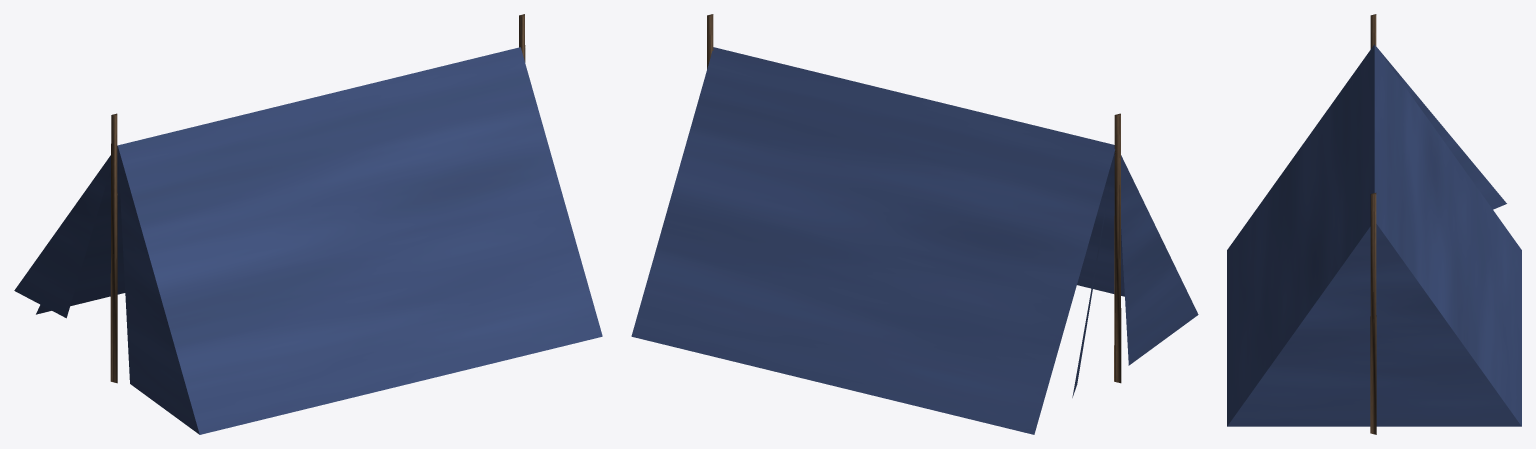
The model's file is Tent_Pilgrim_5_LOD1.gltf.
The picture shows the model from 3 angles, left to right: view 1: azimuth 30°, elevation 25°; view 2: azimuth 150°, elevation 25°; view 3: azimuth 270°, elevation 25°; orthographic projection. The views are drawn at different scales.
Visible parts, largest first — view 1: Tent_Pilgrim_5_LOD1; view 2: Tent_Pilgrim_5_LOD1; view 3: Tent_Pilgrim_5_LOD1.
Boxes of the visible parts, x1=… form: Tent_Pilgrim_5_LOD1: x1=14, y1=14, x2=602, y2=434; Tent_Pilgrim_5_LOD1: x1=631, y1=14, x2=1198, y2=434; Tent_Pilgrim_5_LOD1: x1=1227, y1=14, x2=1521, y2=434.
Size of the model in its own units: 5.55 by 3.23 by 3.6.
2 materials, 2 textured.
